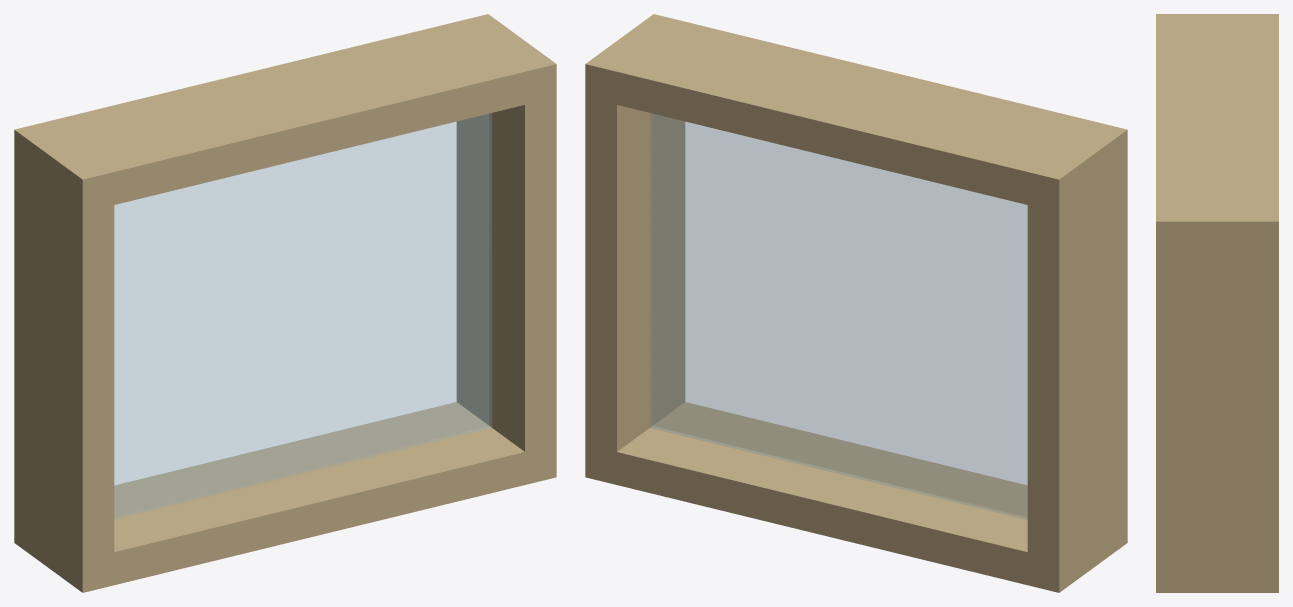
Rendered from janela_60x50.glb.
The picture shows the model from 3 angles, left to right: view 1: azimuth 30°, elevation 25°; view 2: azimuth 150°, elevation 25°; view 3: azimuth 270°, elevation 25°; orthographic projection. The views are drawn at different scales.
Visible parts, largest first — view 1: janela_60x50; view 2: janela_60x50; view 3: janela_60x50.
Boxes of the visible parts, box(x1,y1,x2,y2) form: janela_60x50: box(14, 14, 556, 592); janela_60x50: box(585, 14, 1127, 592); janela_60x50: box(1156, 14, 1278, 592).
Bounding box in the file's own units: 0.6 × 0.5 × 0.15.
